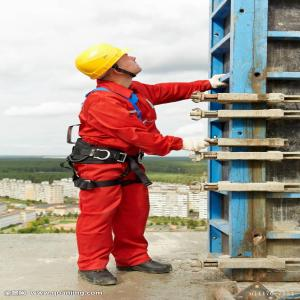yellow: (72, 45, 141, 87)
